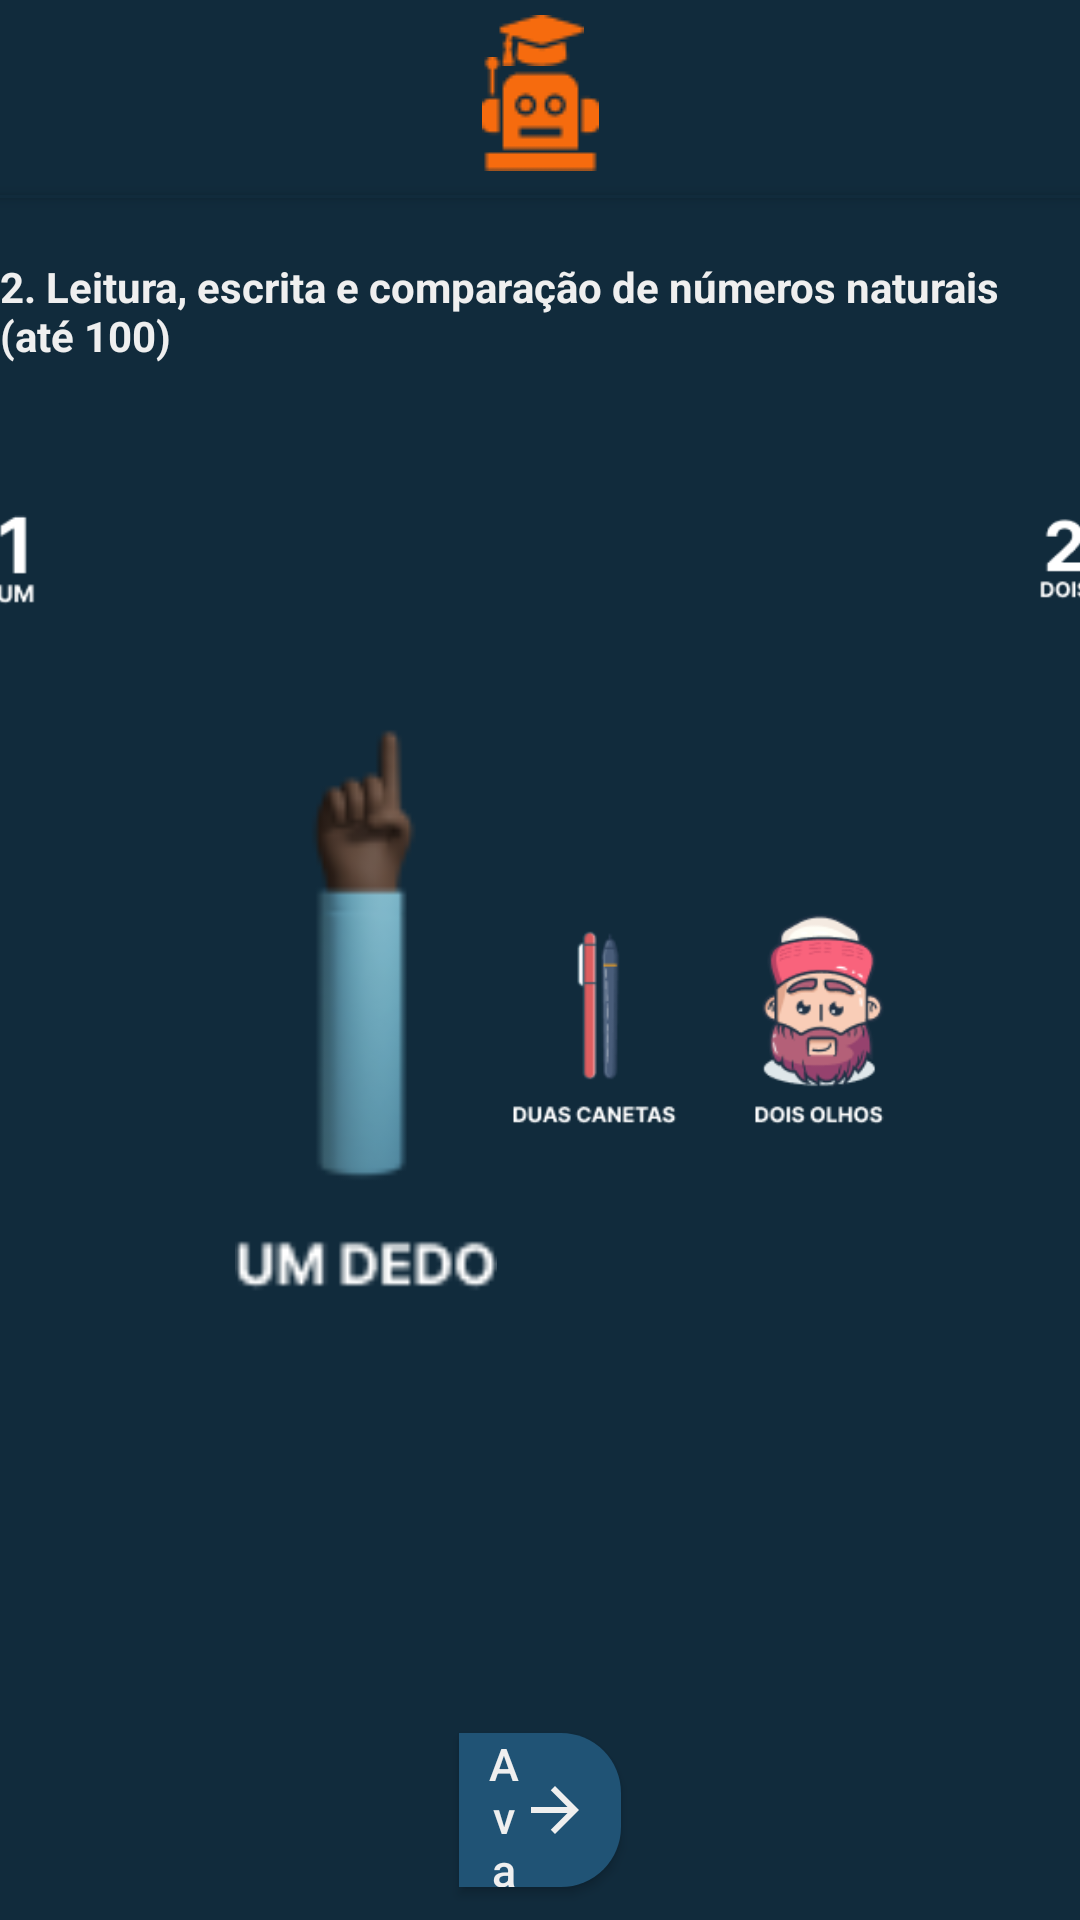

Named icons in this screenshot (1080px x 1920px) and their bounding boxes, bbox=(x1, y1, x2, y2):
minirobot: bbox=(482, 57, 599, 171)
